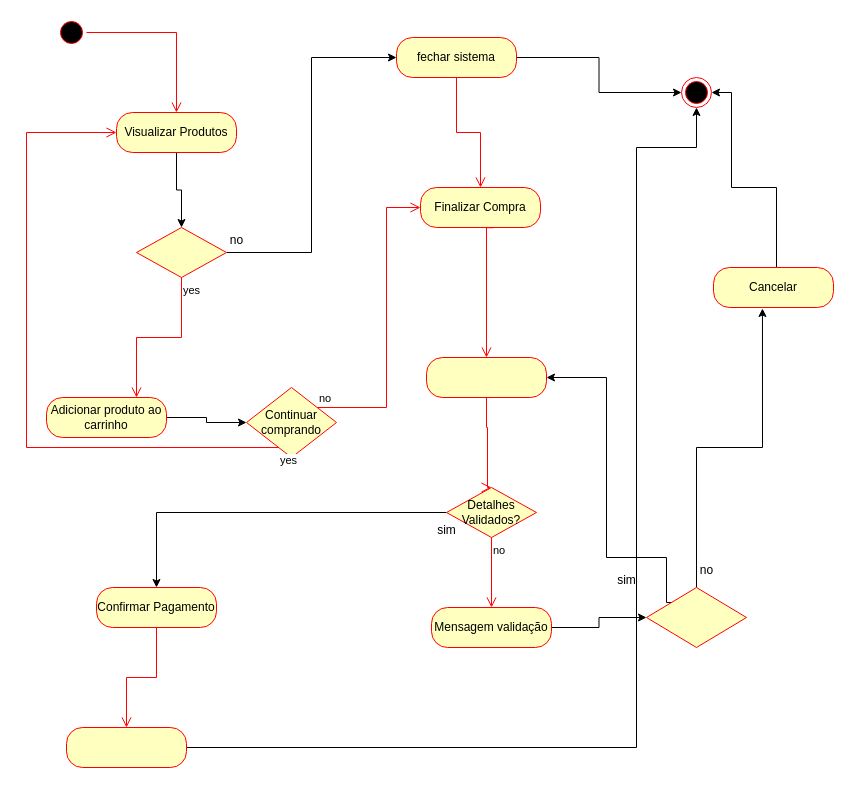
Image size: 851x785. Some labels were removed from this diagram. The shapes that lost their labels are listed below. From the top down, each one's box as (x1, y1, x2, y2) in pixels, then its label:
(136, 226, 226, 278): Selecionar o Produto
(426, 356, 546, 398): Fornecer Detalhes
(646, 586, 746, 648): Tentar Novamente?
(66, 726, 186, 768): Imprimir fechamento
